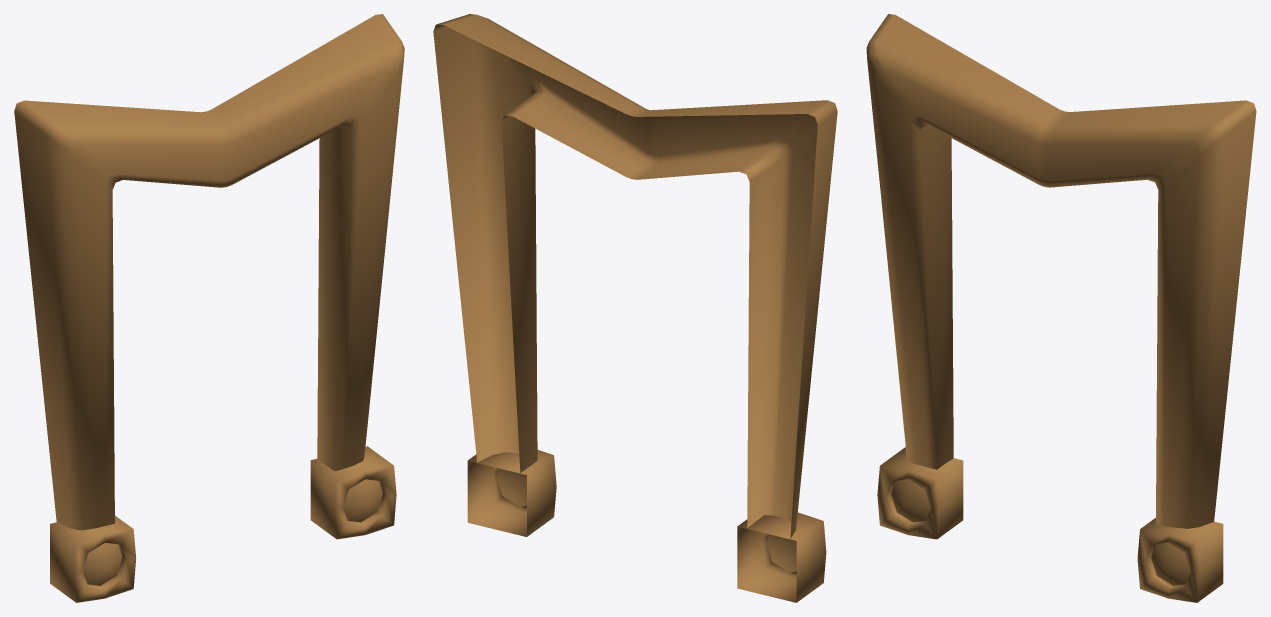
Rendered from props_doorFrame_1.fbx.
3 views of the same model, side by side, from view 1: azimuth 30°, elevation 25°; view 2: azimuth 150°, elevation 25°; view 3: azimuth 330°, elevation 25° (orthographic). The views are drawn at different scales.
Visible parts, largest first — view 1: door_frame1; view 2: door_frame1; view 3: door_frame1.
Part boxes in pixels (left/top/right/bottom): door_frame1: left=14, top=14, right=404, bottom=602; door_frame1: left=433, top=14, right=837, bottom=602; door_frame1: left=866, top=14, right=1256, bottom=602.
Size of the model in its own units: 191 by 239 by 33.31.
